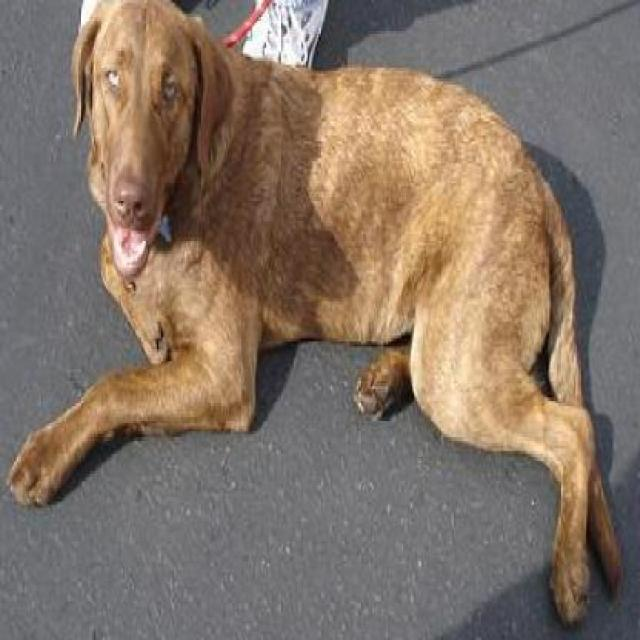Dog: (3, 0, 623, 637)
